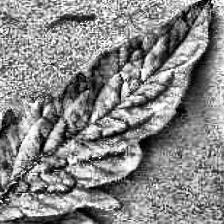leaf mold: (0, 0, 210, 224)
